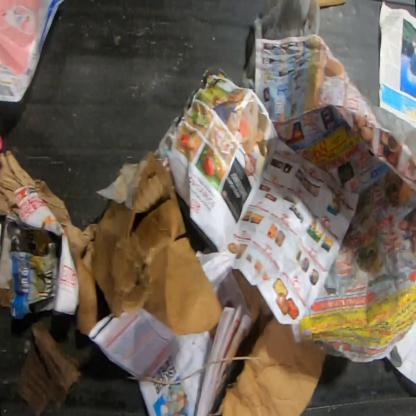cardboard: (0, 151, 222, 336), (220, 314, 327, 415), (18, 320, 81, 414)
soft_plastic: (254, 0, 322, 41), (373, 105, 416, 164)
